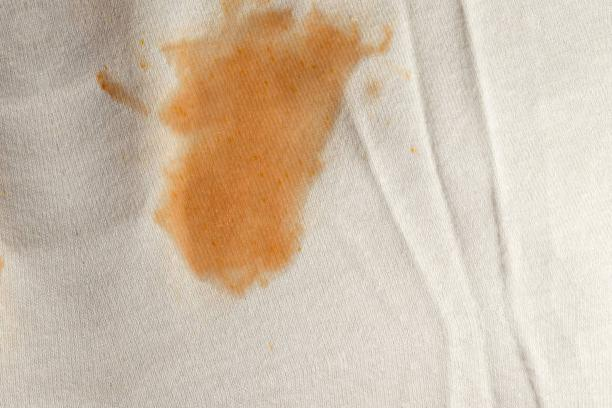stain: (96, 1, 403, 301)
